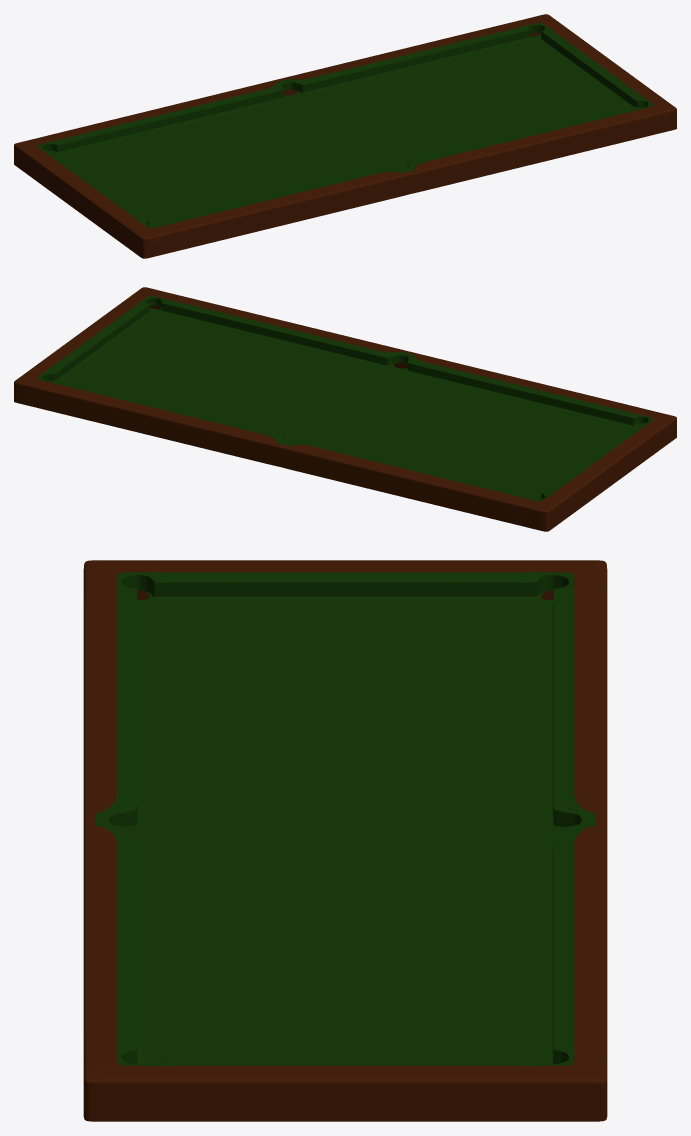
Rendered from Pool Table V5- Regulation.fbx.
3 views of the same model, one above another, from view 1: azimuth 30°, elevation 25°; view 2: azimuth 150°, elevation 25°; view 3: azimuth 270°, elevation 25° (orthographic). The views are drawn at different scales.
Visible parts, largest first — view 1: Table Cloth, Table Border; view 2: Table Cloth, Table Border; view 3: Table Cloth, Table Border.
Boxes of the visible parts, x1=… form: Table Cloth: x1=37, y1=22, x2=653, y2=228; Table Border: x1=14, y1=14, x2=676, y2=258; Table Cloth: x1=37, y1=295, x2=653, y2=501; Table Border: x1=14, y1=287, x2=676, y2=531; Table Cloth: x1=96, y1=572, x2=594, y2=1065; Table Border: x1=83, y1=560, x2=607, y2=1121.
Size of the model in its own units: 1483 by 54.9 by 628.
